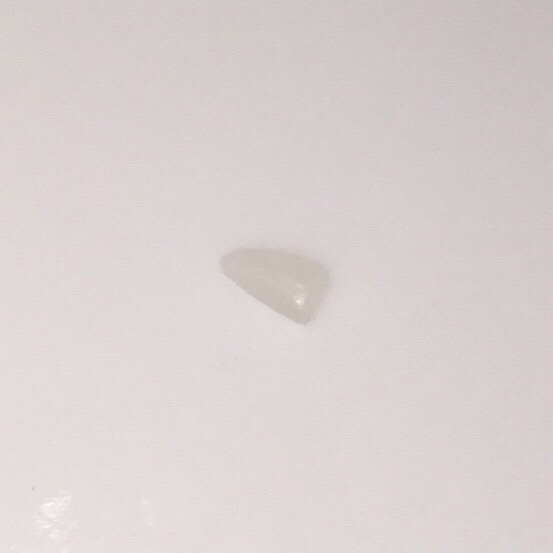Gao Tam: (214, 236, 335, 323)
